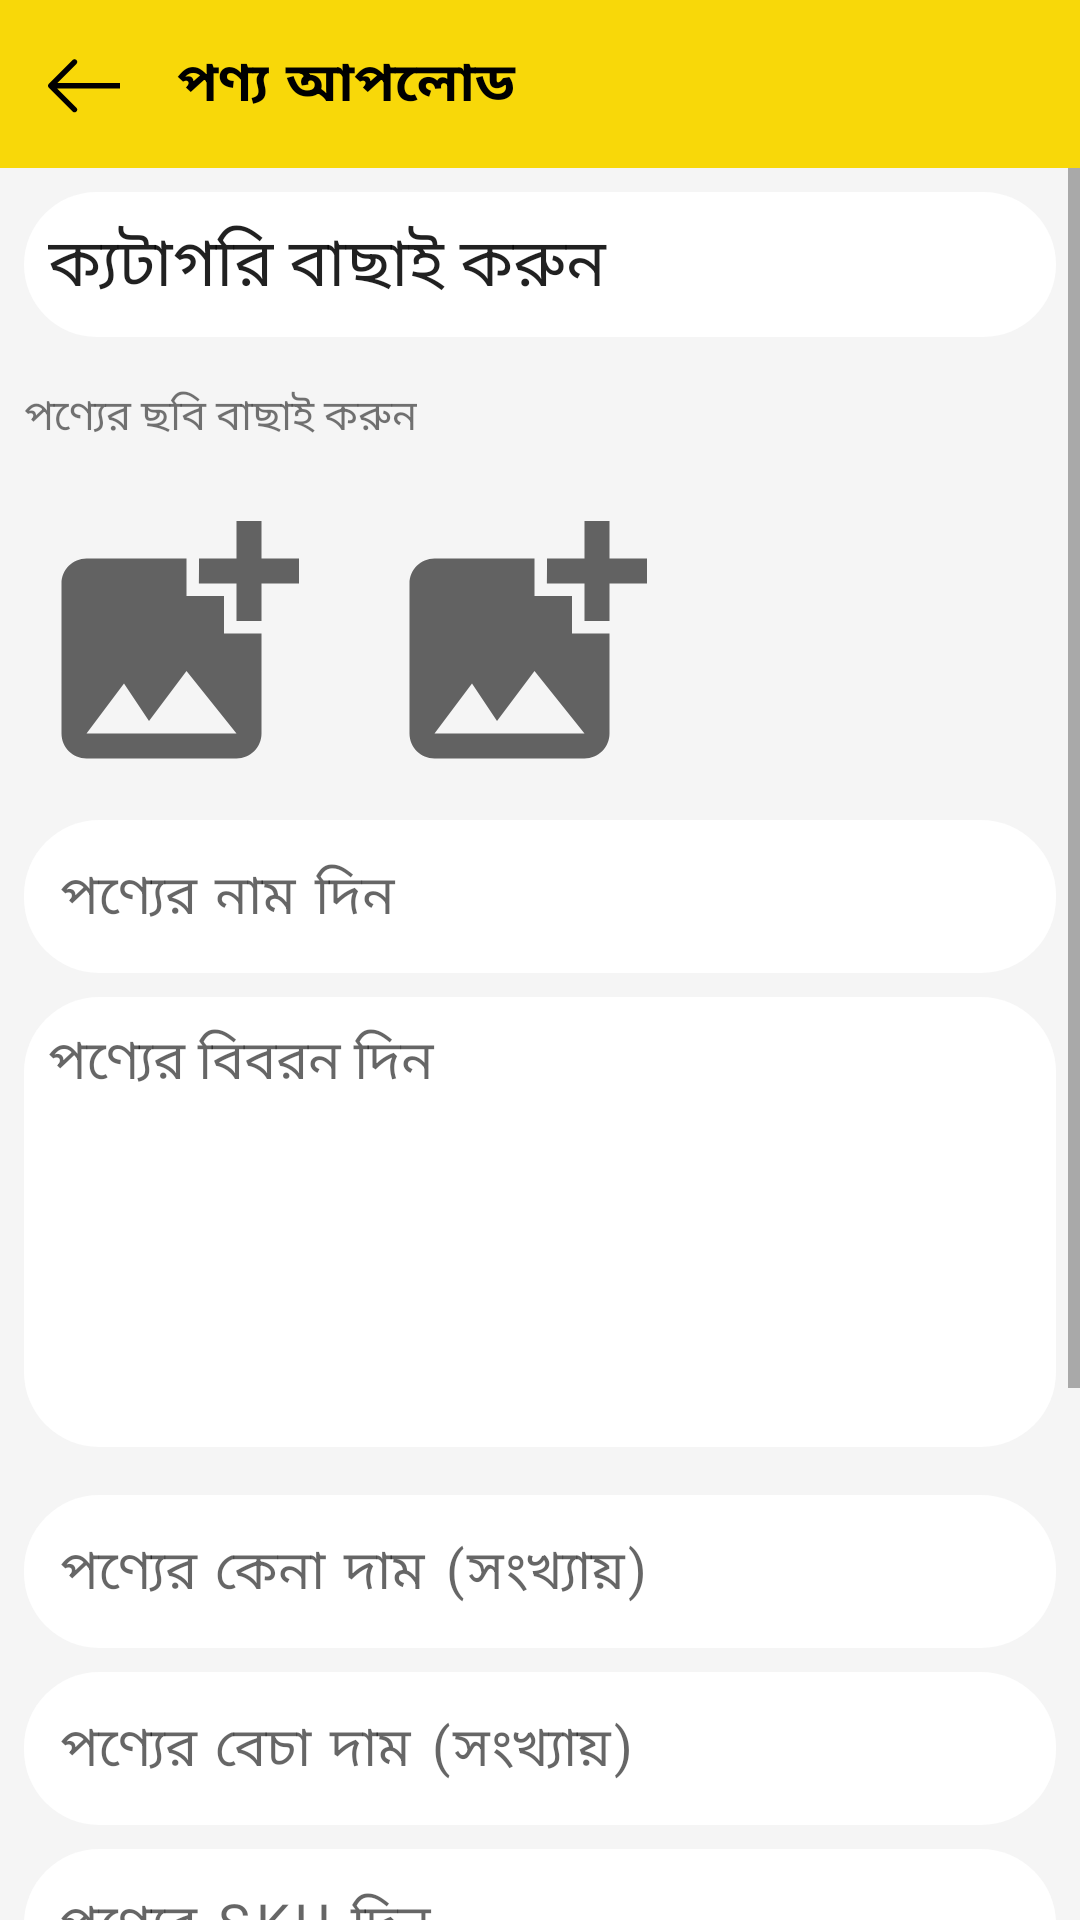

Point at icon controls on the screen. Image size 1080px x 1920px, points as point (x, y).
add photo: point (180, 640), point (528, 640)
arrow: point (84, 86)
